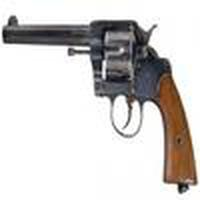gun: (3, 15, 200, 192)
